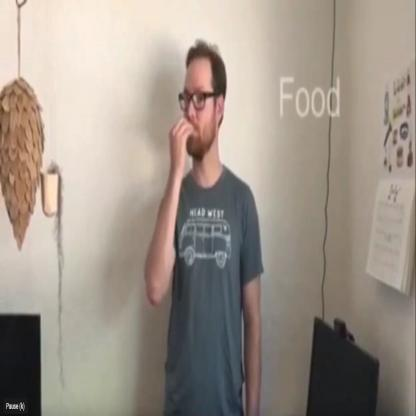Food: (163, 30, 230, 172)
